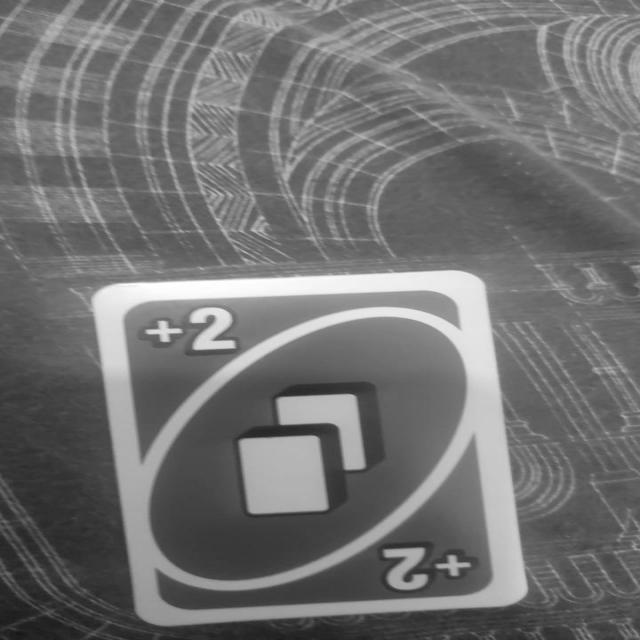card_2-: (90, 268, 529, 626)
